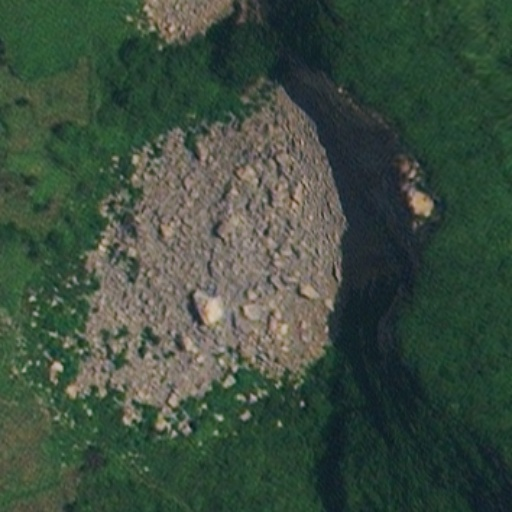landslide: (66, 94, 346, 397)
